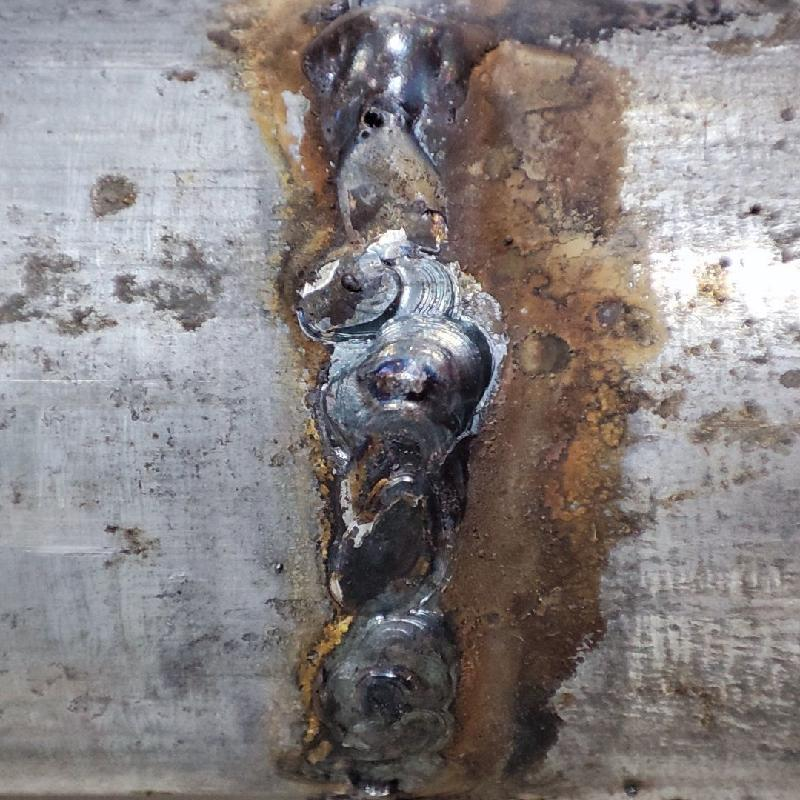Not_fully_soldered: (313, 109, 463, 312)
Surface_pores: (348, 93, 406, 152)
Weld: (293, 0, 454, 128)
wrong_size: (310, 245, 490, 790)
